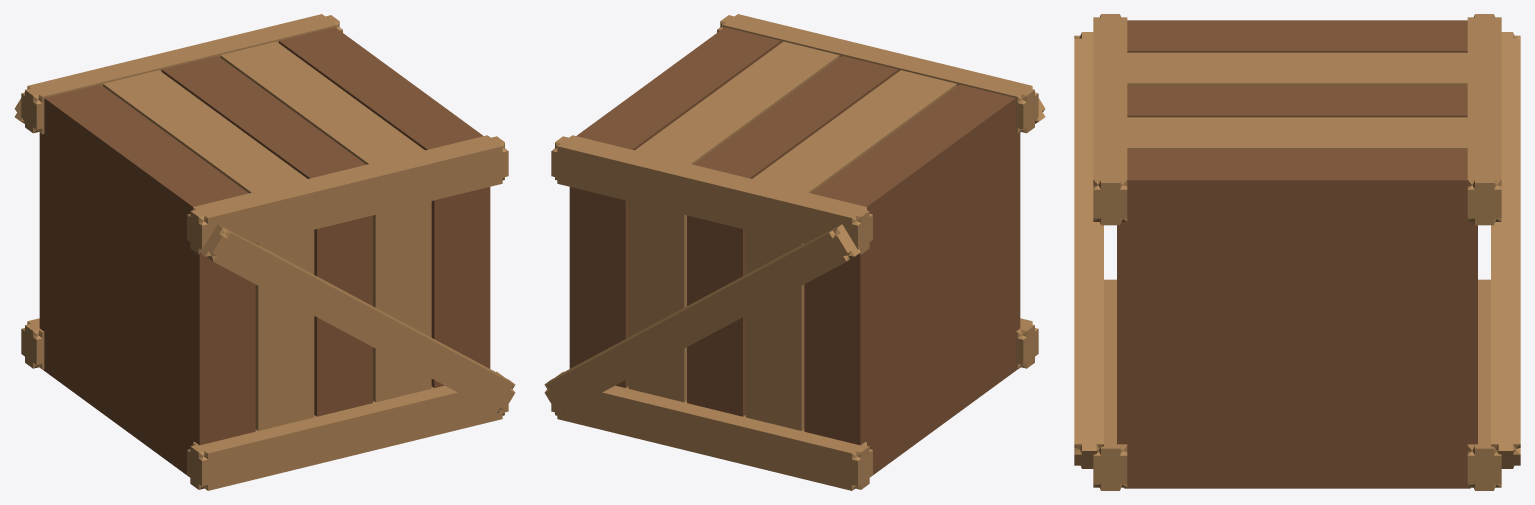
File: Crate.fbx
3 renders of one model, left to right at view 1: azimuth 30°, elevation 25°; view 2: azimuth 150°, elevation 25°; view 3: azimuth 270°, elevation 25°, orthographic. The views are drawn at different scales.
Visible parts, largest first — view 1: Crate.002; view 2: Crate.002; view 3: Crate.002.
Part boxes in pixels (x1,y1,x2,y2): Crate.002: [14, 14, 515, 490]; Crate.002: [544, 14, 1045, 490]; Crate.002: [1074, 14, 1520, 490].
Bounding box in the file's own units: 0.9521 × 0.805 × 1.05.
